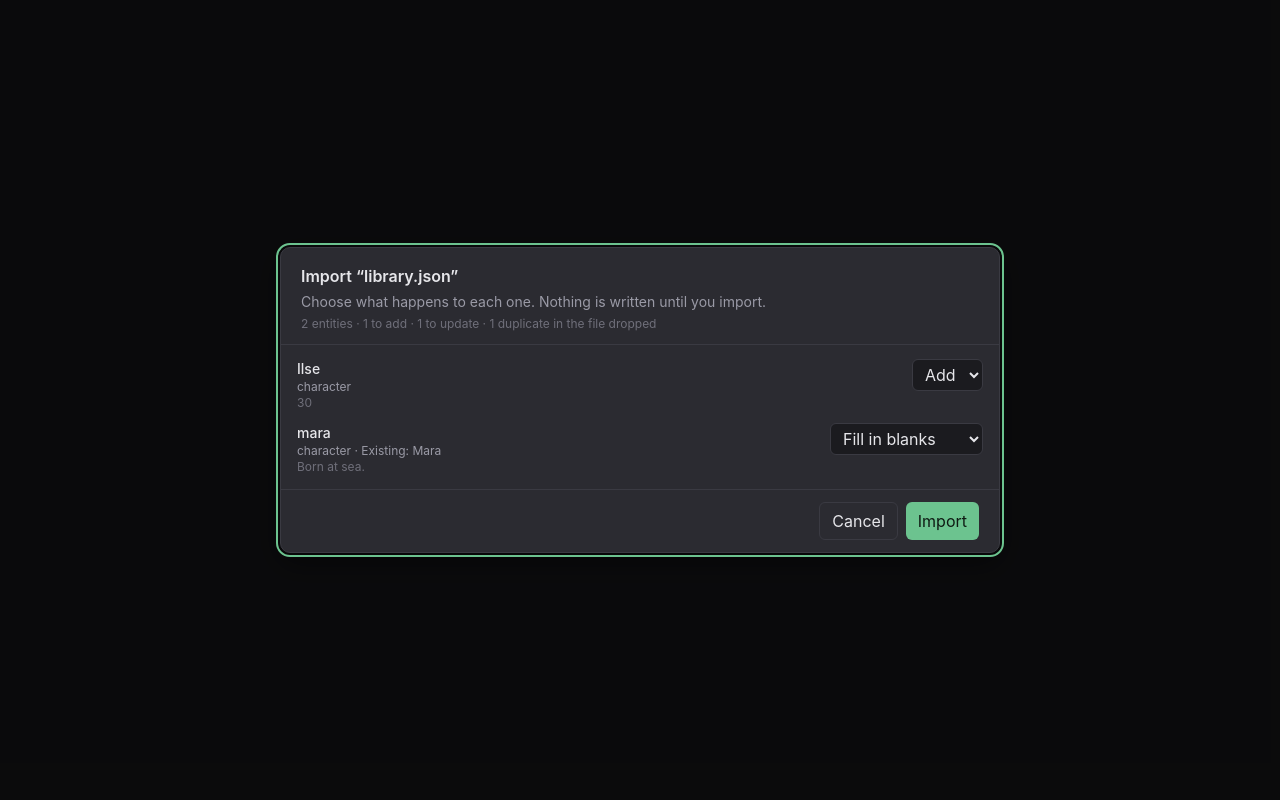
EntityImportDialog (F-9.5) › an action follows into the plan and the summary
The width and height of the screenshot is (1280, 800).
Select "Replace values" in the dropdown named "Action for mara": (906,439) [830, 423, 983, 455]
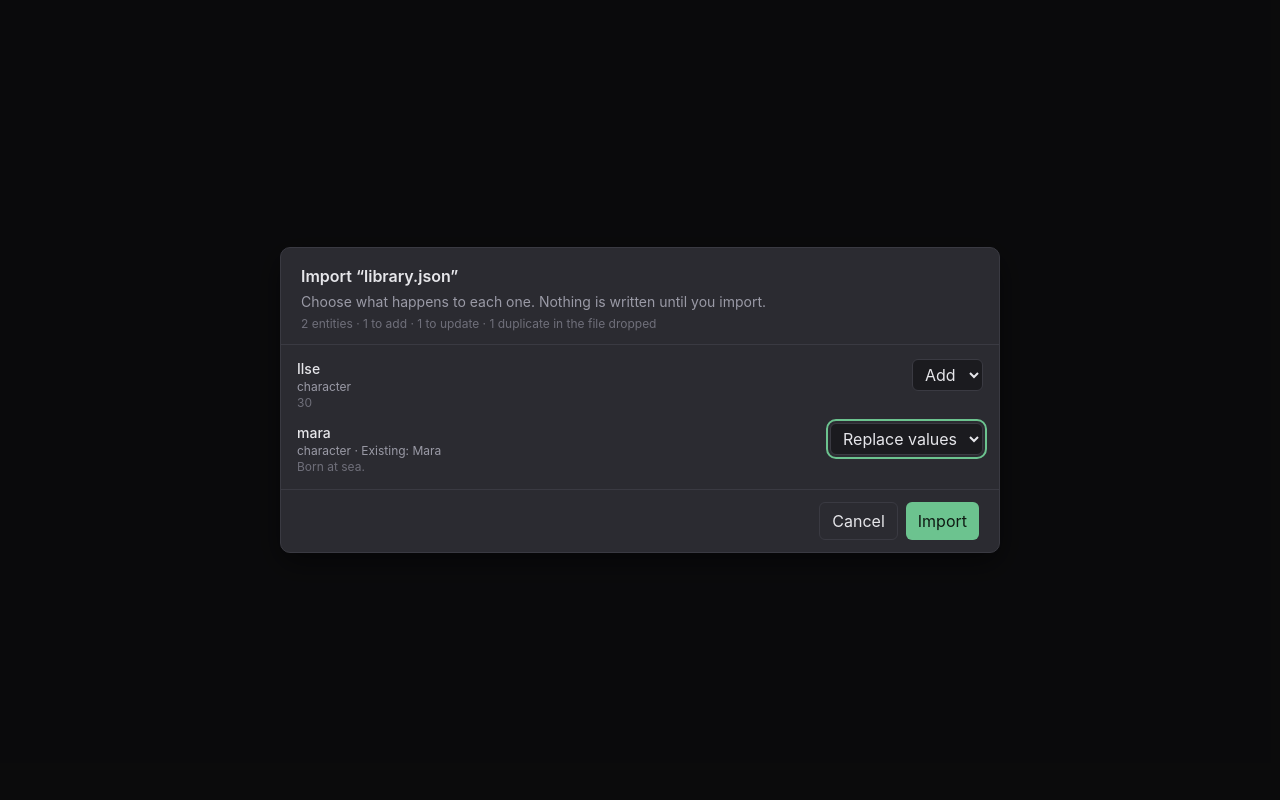
Check: the text with test id "entity-import-summary" shows "1 to add · 1 to update", box [301, 316, 656, 331]
Select "Skip" in the dropdown named "Action for Ilse": (948,375) [912, 359, 983, 391]
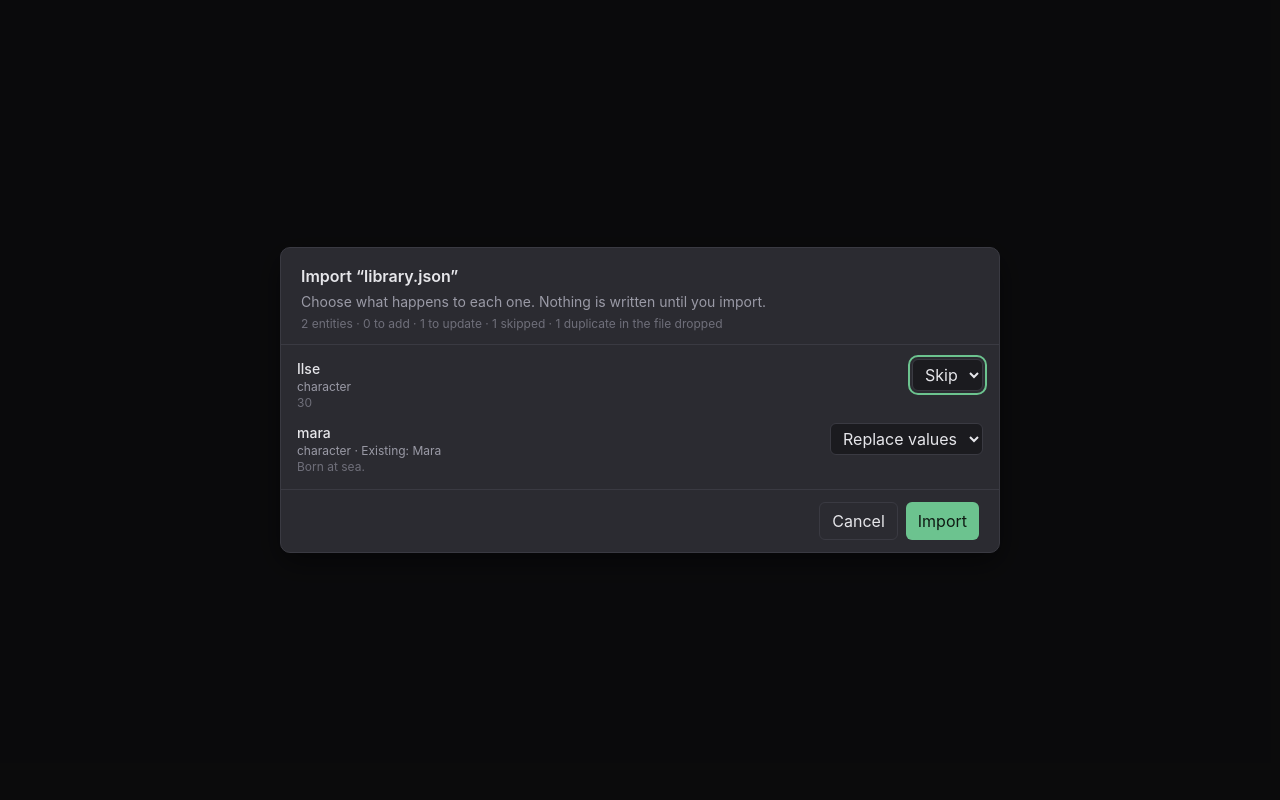
Check: the text with test id "entity-import-summary" shows "0 to add · 1 to update · 1 skipped", box [301, 316, 722, 331]
